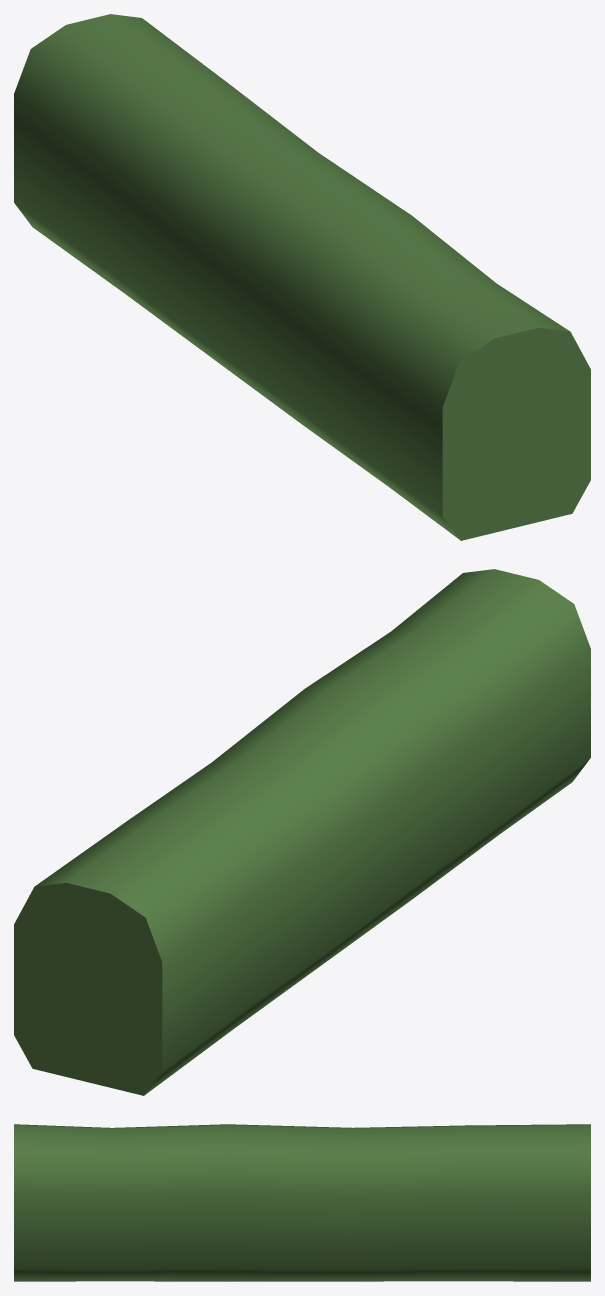
File: shrub_hedge.glb
The picture shows the model from 3 angles, top to bottom: view 1: azimuth 30°, elevation 25°; view 2: azimuth 150°, elevation 25°; view 3: azimuth 270°, elevation 25°; orthographic projection. The views are drawn at different scales.
Parts seen in each view (by area): view 1: shrub_hedge; view 2: shrub_hedge; view 3: shrub_hedge.
Boxes of the visible parts, x1=… form: shrub_hedge: x1=14, y1=14, x2=590, y2=540; shrub_hedge: x1=14, y1=569, x2=590, y2=1095; shrub_hedge: x1=14, y1=1124, x2=590, y2=1281.
Size of the model in its own units: 0.8 by 1 by 4.
